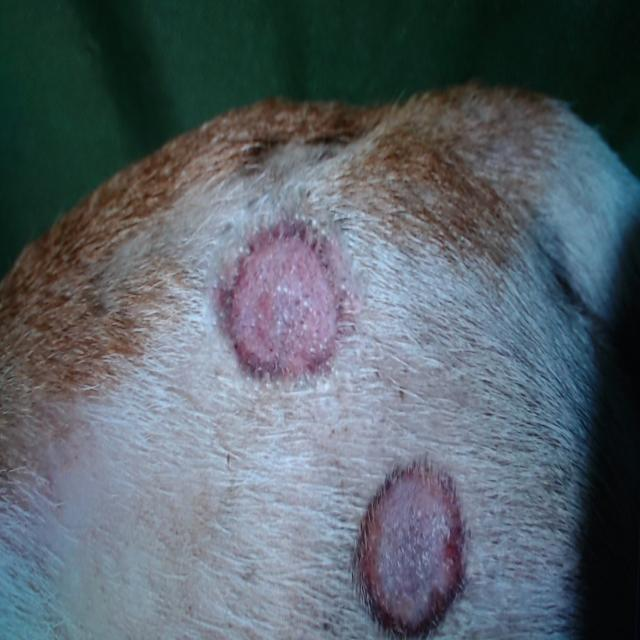ringworm: (207, 198, 360, 434), (341, 437, 472, 640)
